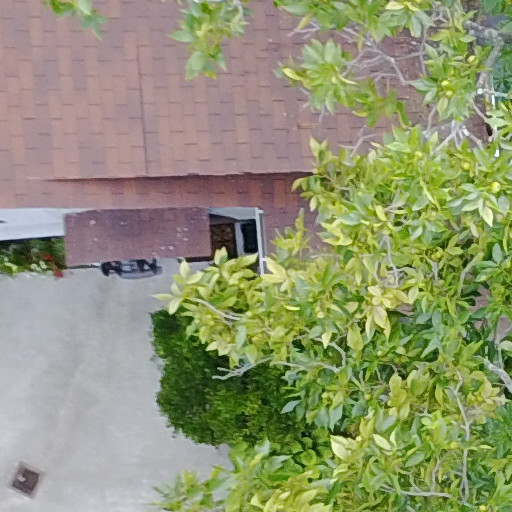grate: (1, 455, 61, 501)
